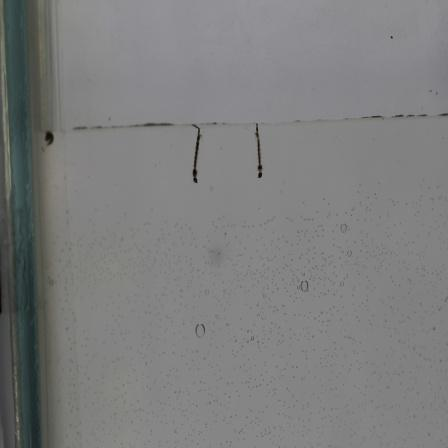Jentik-Nyamuk: (248, 123, 272, 187), (186, 125, 207, 185)
